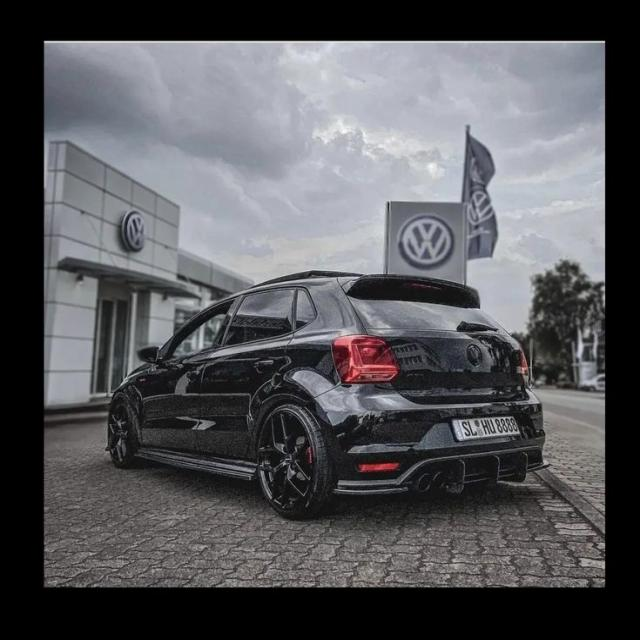Placas: (446, 413, 521, 446)
